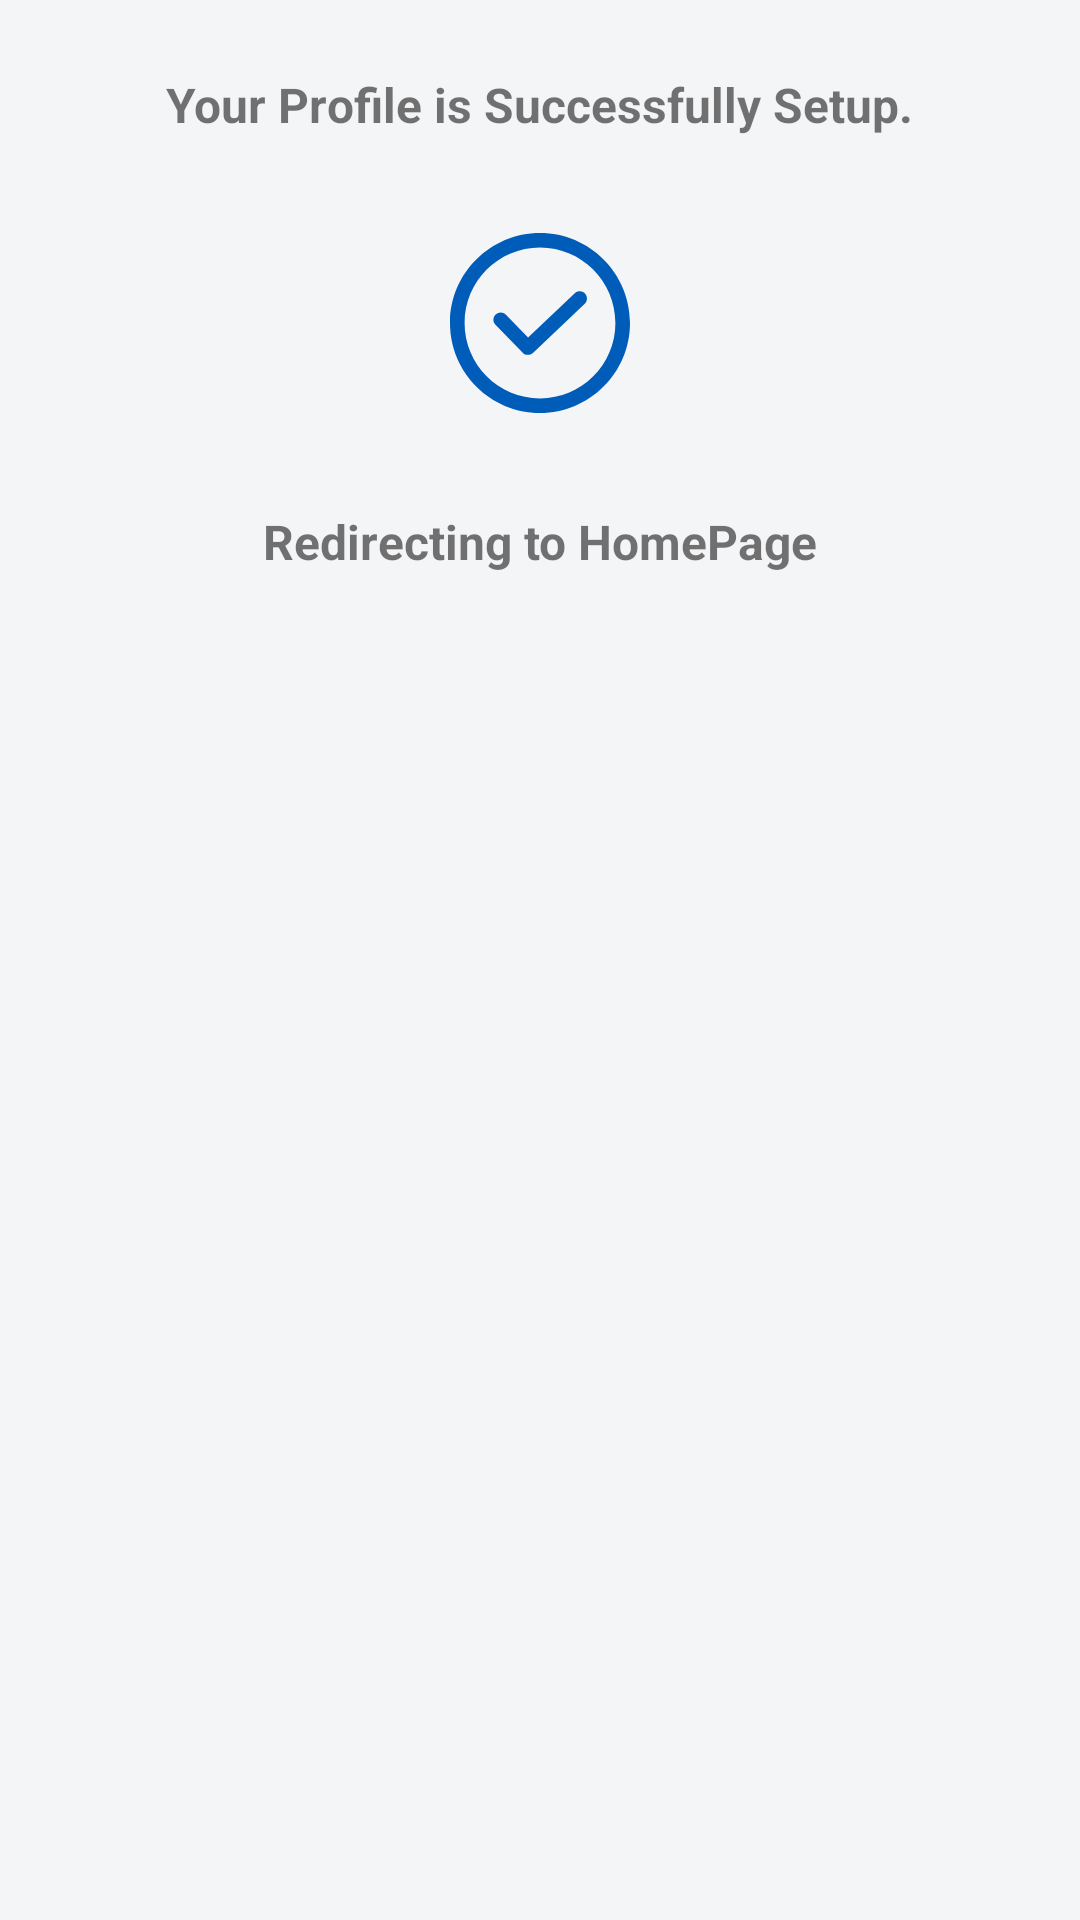

Where icons sit on this 1080×1920 app screen, as (x1, y1, x2, y2):
tick: (450, 233, 630, 413)
